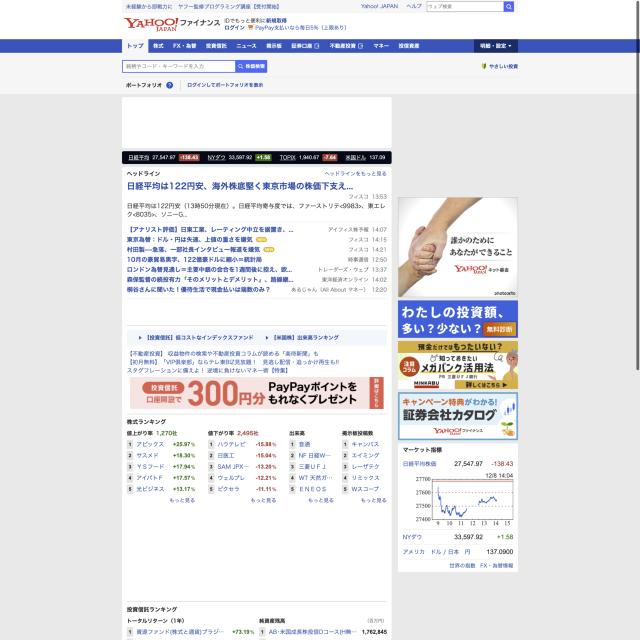input: (122, 60, 268, 73)
logo: (123, 15, 180, 34)
navigation: (122, 38, 423, 54), (125, 0, 282, 14)
